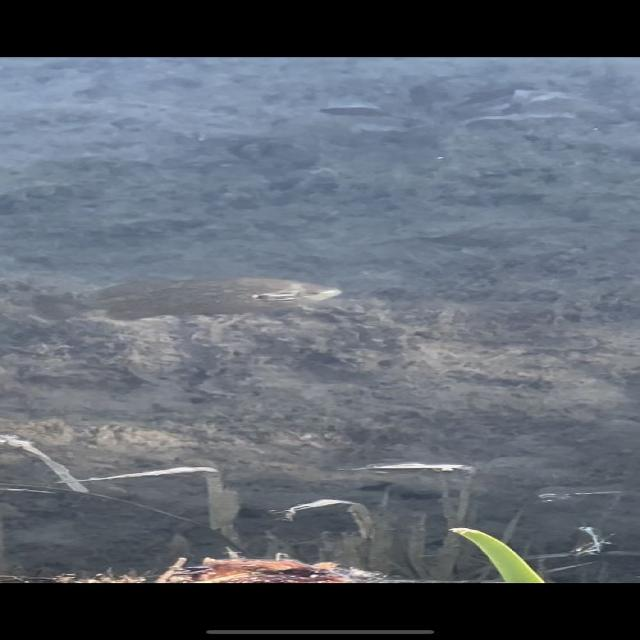Gunes Levregi: (38, 276, 364, 330)
